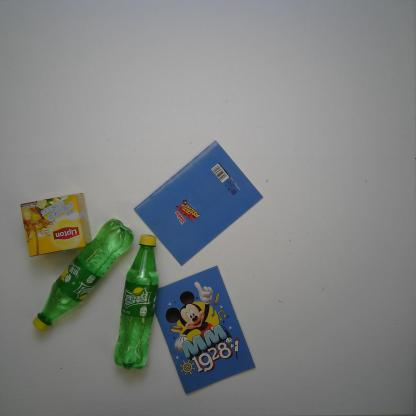Drink: (30, 216, 136, 335), (111, 231, 160, 373)
Instant Drink: (19, 192, 90, 258)
Stationery: (132, 138, 265, 268), (151, 262, 257, 396)
